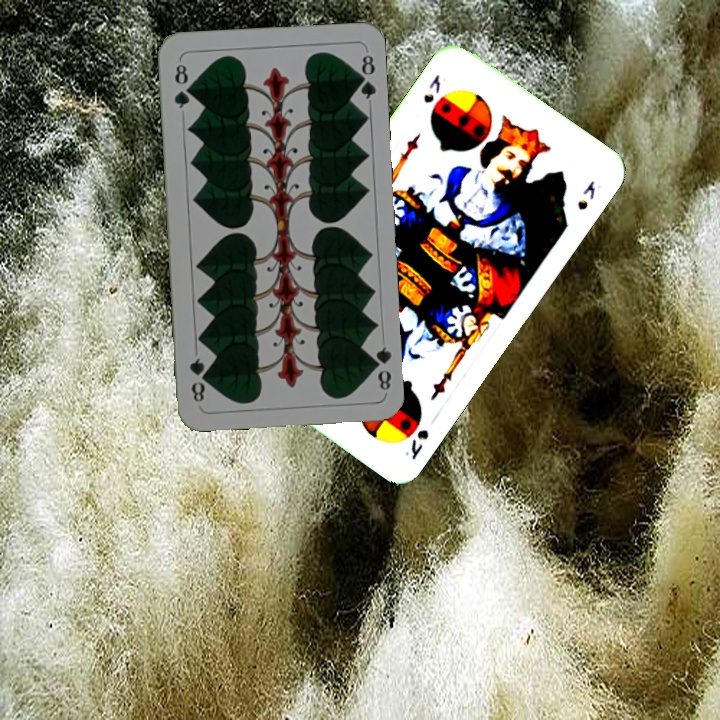G8: (366, 342, 394, 393), (170, 57, 193, 111)
SK: (400, 425, 432, 463), (419, 69, 444, 106)
